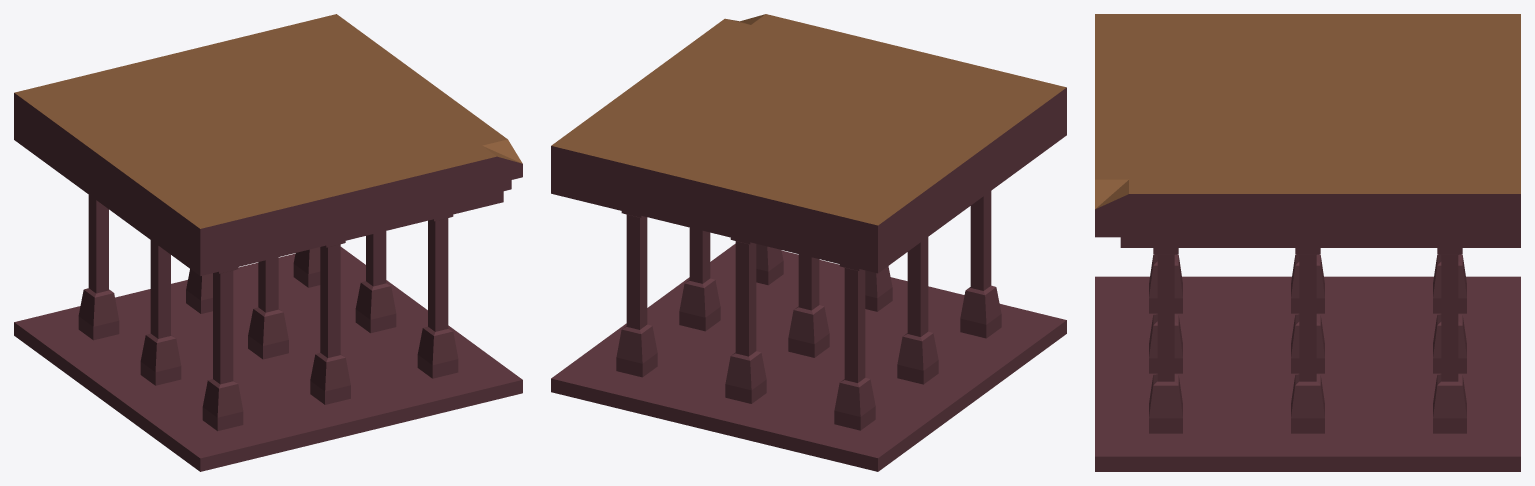
The model's file is hindu-pillars-corner.fbx.
3 renders of one model, left to right at view 1: azimuth 30°, elevation 25°; view 2: azimuth 150°, elevation 25°; view 3: azimuth 270°, elevation 25°, orthographic. The views are drawn at different scales.
Visible parts, largest first — view 1: hindu-pillars-corner; view 2: hindu-pillars-corner; view 3: hindu-pillars-corner.
Part boxes in pixels (x1,y1,x2,y2): hindu-pillars-corner: (14, 14, 522, 471); hindu-pillars-corner: (551, 14, 1066, 471); hindu-pillars-corner: (1095, 14, 1520, 471).
Size of the model in its own units: 5 by 3.6 by 5.
